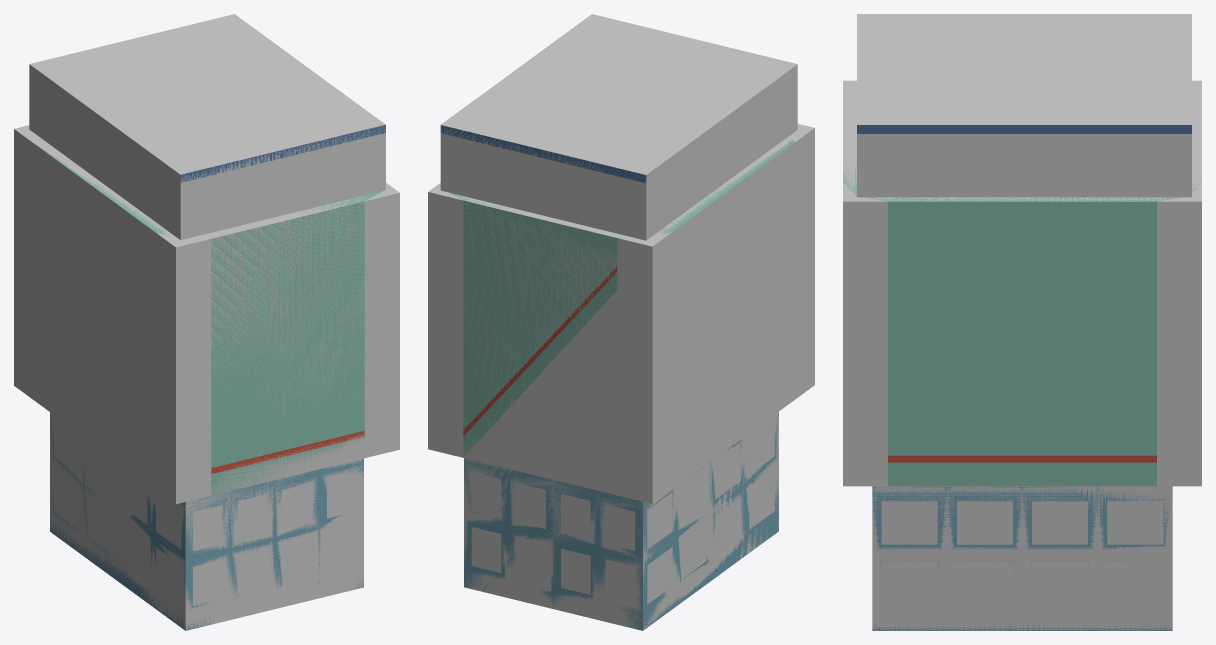
File: SM_Building_14_Top.fbx
3 renders of one model, left to right at view 1: azimuth 30°, elevation 25°; view 2: azimuth 150°, elevation 25°; view 3: azimuth 270°, elevation 25°, orthographic. The views are drawn at different scales.
Parts seen in each view (by area): view 1: SM_Building_14_Top_ConvexHulls, SM_Building_14_Top; view 2: SM_Building_14_Top_ConvexHulls, SM_Building_14_Top; view 3: SM_Building_14_Top_ConvexHulls, SM_Building_14_Top.
Boxes of the visible parts, left/top/right/bottom form: SM_Building_14_Top_ConvexHulls: left=14, top=14, right=399, bottom=630; SM_Building_14_Top: left=34, top=125, right=385, bottom=630; SM_Building_14_Top_ConvexHulls: left=428, top=14, right=814, bottom=630; SM_Building_14_Top: left=440, top=125, right=794, bottom=630; SM_Building_14_Top_ConvexHulls: left=843, top=14, right=1201, bottom=630; SM_Building_14_Top: left=843, top=125, right=1201, bottom=630.
Bounding box in the file's own units: 764 × 957 × 1513.
Materials: 2 (1 with a texture image).
